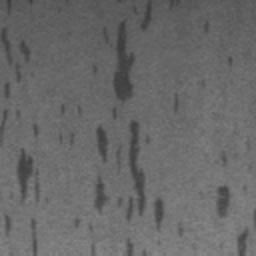Red iron sheet: (0, 0, 183, 256), (216, 186, 230, 218), (237, 229, 250, 256), (173, 93, 179, 115), (220, 151, 228, 166), (204, 20, 210, 35), (228, 56, 234, 69), (91, 244, 96, 256)
